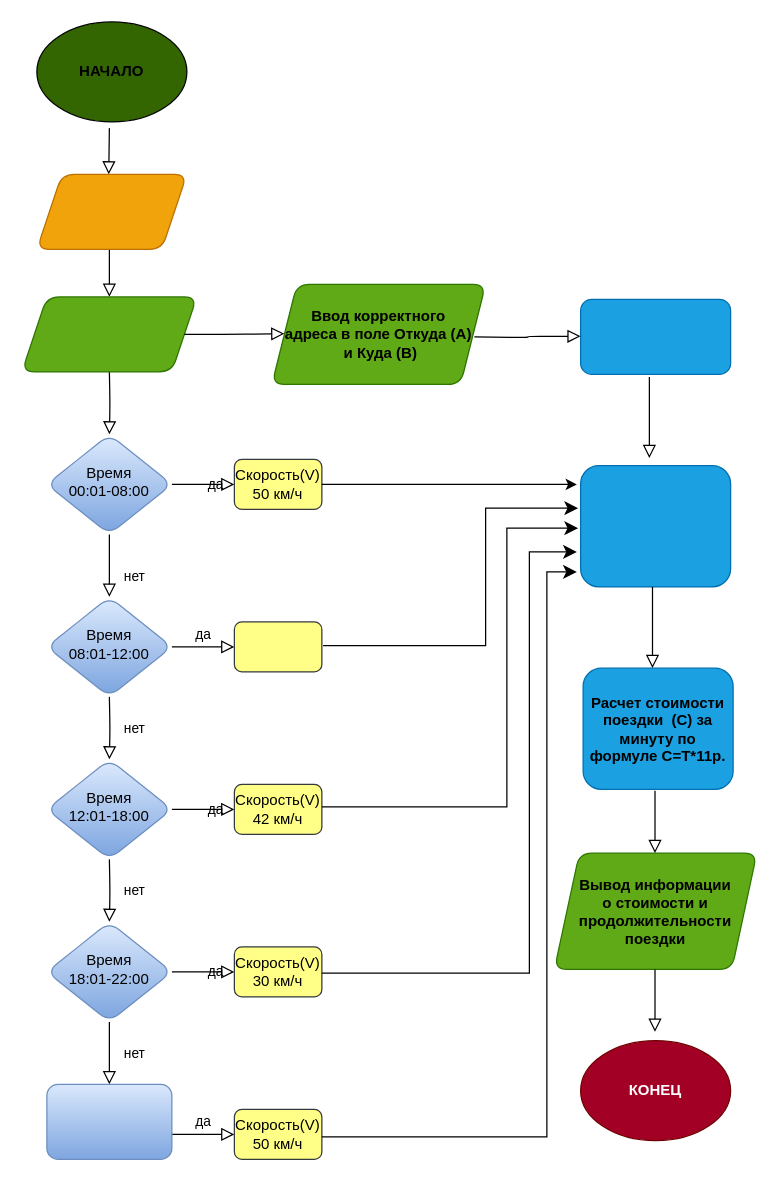
This 779x1181 diagram has some shape labels left out. The shapes that lost their labels are listed below. From the top down, each one's box as (x1, y1, x2, y2) in pixels, then its label:
(36, 173, 187, 249): Выбор ТАКСИ
(21, 296, 197, 372): Ввод корректного времени
(579, 298, 731, 374): Расчет расстояния (S) между точками А и В (соглассно таблице)
(579, 464, 731, 587): Расчет времени поездки в минутах(Т) по формуле T=S/V*60
(233, 621, 322, 672): Скорость(V) 35 км/ч
(46, 1083, 172, 1159): Время 22:01-00:00
